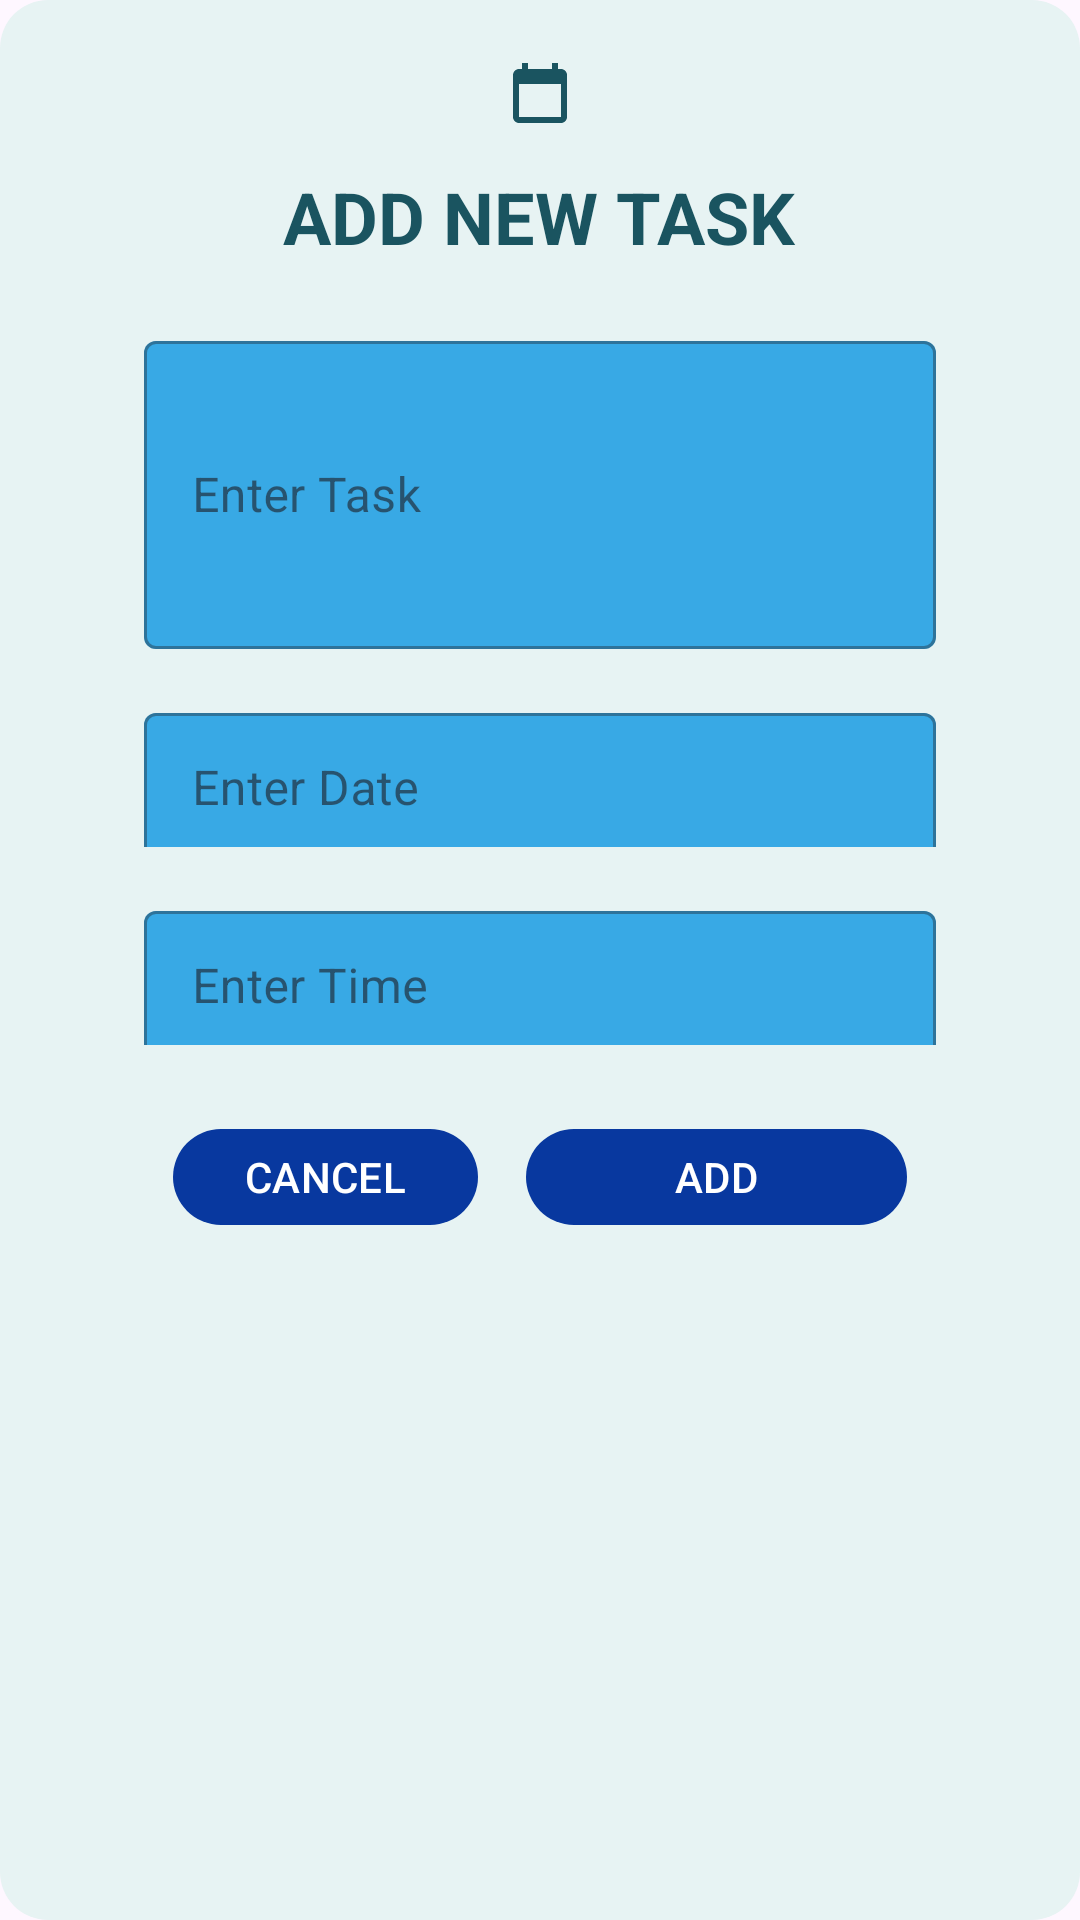

Icon bounding boxes for this 1080px x 1920px phone screenshot, format (x1, y1, x2, y2):
Calendar: (513, 63, 567, 123)
